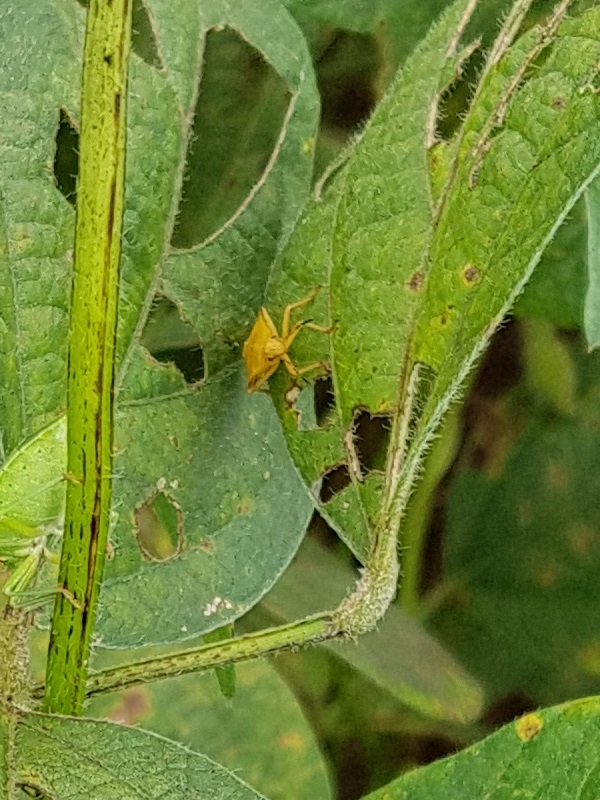Euschistus_heros_ninfa: (208, 275, 363, 420)
